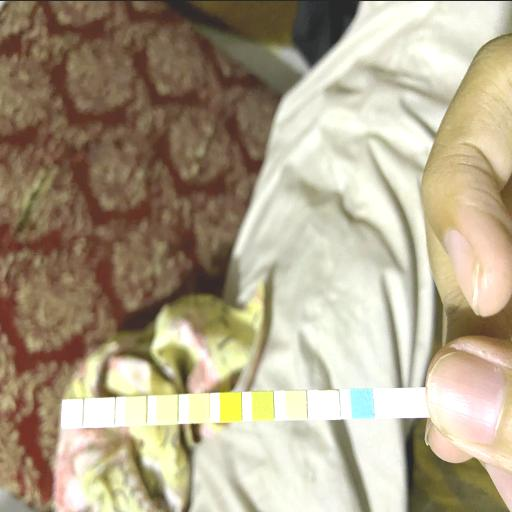Bilirubin: (318, 391, 340, 417)
Blood: (220, 392, 240, 420)
Glucose: (352, 389, 374, 416)
Ketone: (285, 391, 305, 418)
Leukocytes: (63, 400, 81, 425)
Nitrite: (94, 399, 114, 424)
Protein: (157, 396, 177, 422)
SpGravity: (252, 392, 274, 418)
Urobilinogen: (126, 396, 144, 423)
pH: (190, 394, 208, 420)
strip: (61, 387, 422, 426)
